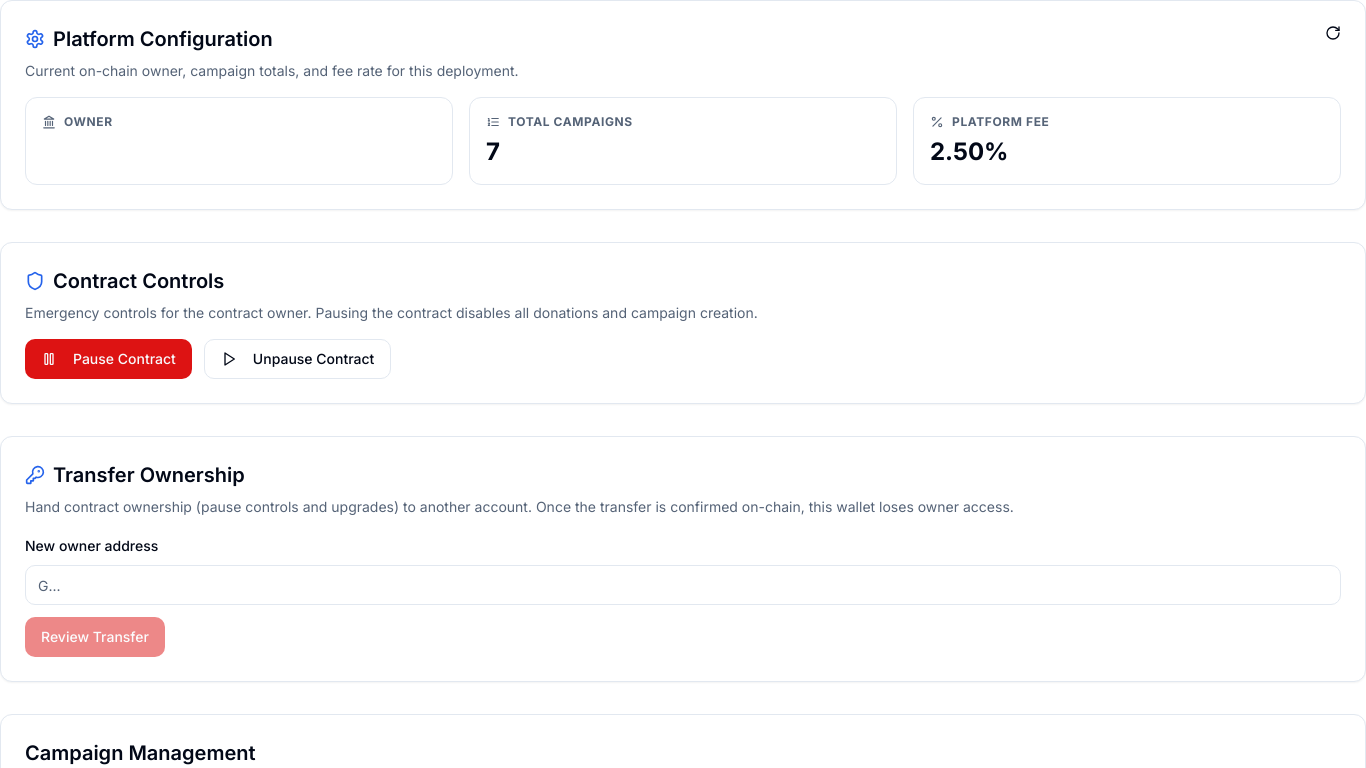
Scenario: AdminPanel – pause › keeps the confirm button disabled until PAUSE is typed
Click the button "Pause Contract" at point(108, 359), box x1=25 y1=339 x2=192 y2=379
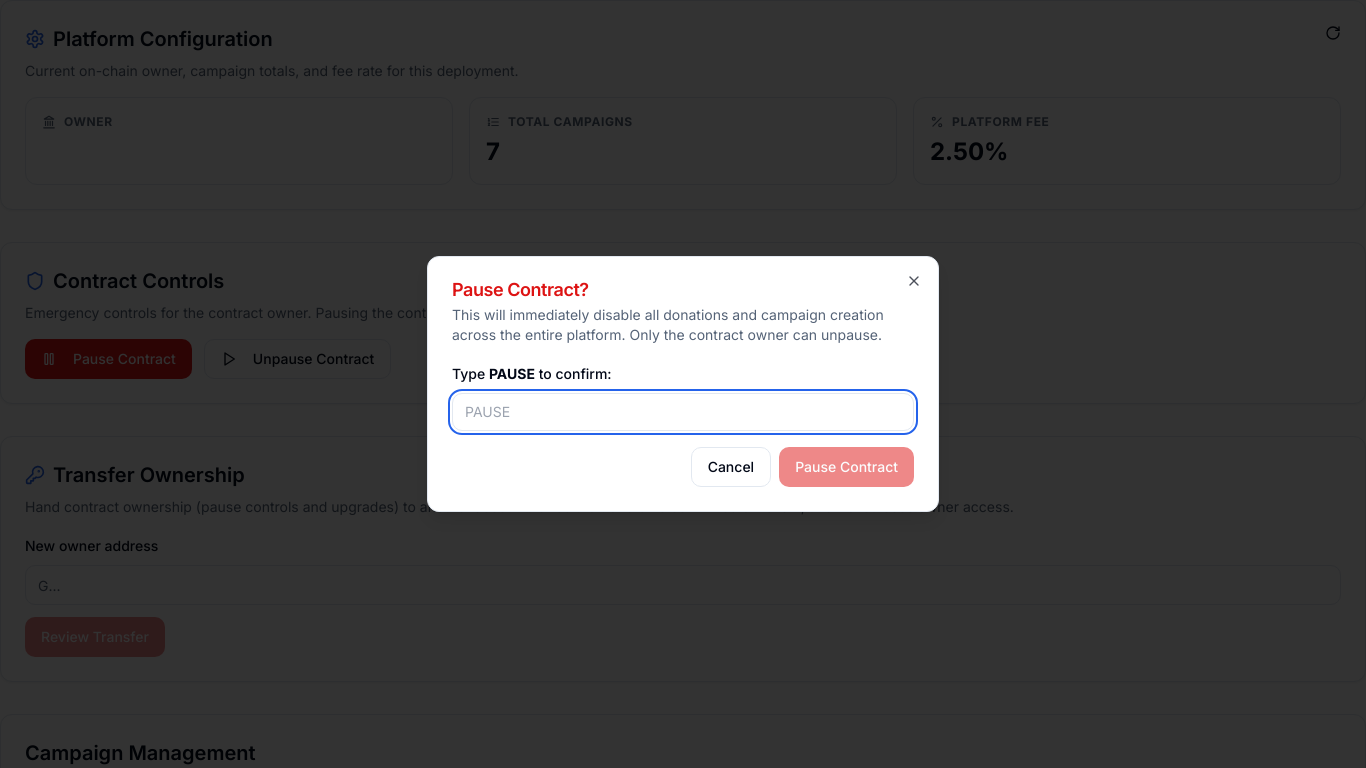
Expected: the button "Pause Contract" is disabled, x1=779 y1=447 x2=914 y2=487
Type "pause" into the field with placeholder "PAUSE" at point(683, 412), box x1=452 y1=393 x2=914 y2=431
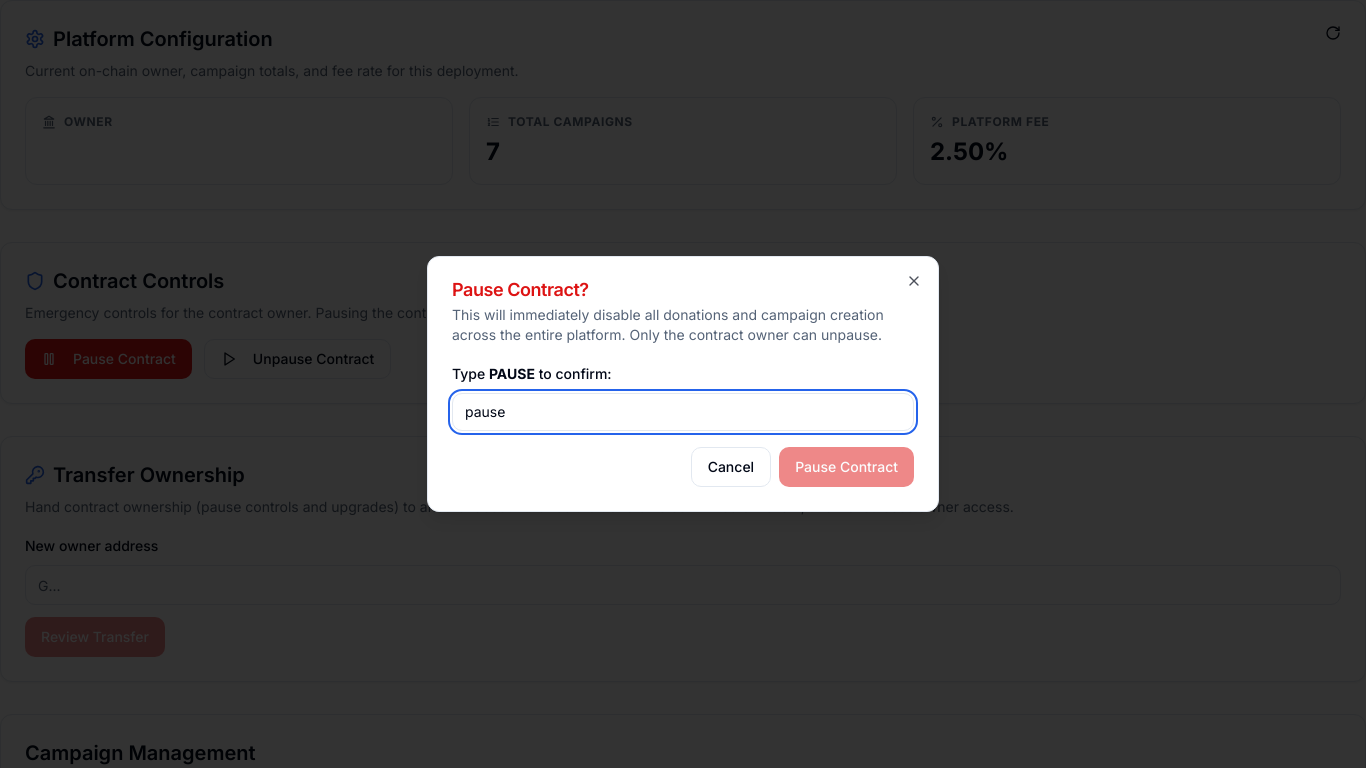
Expected: the button "Pause Contract" is disabled, x1=779 y1=447 x2=914 y2=487
Replace the text in the field with placeholder "PAUSE" with "PAUSE" at point(683, 412), box x1=452 y1=393 x2=914 y2=431
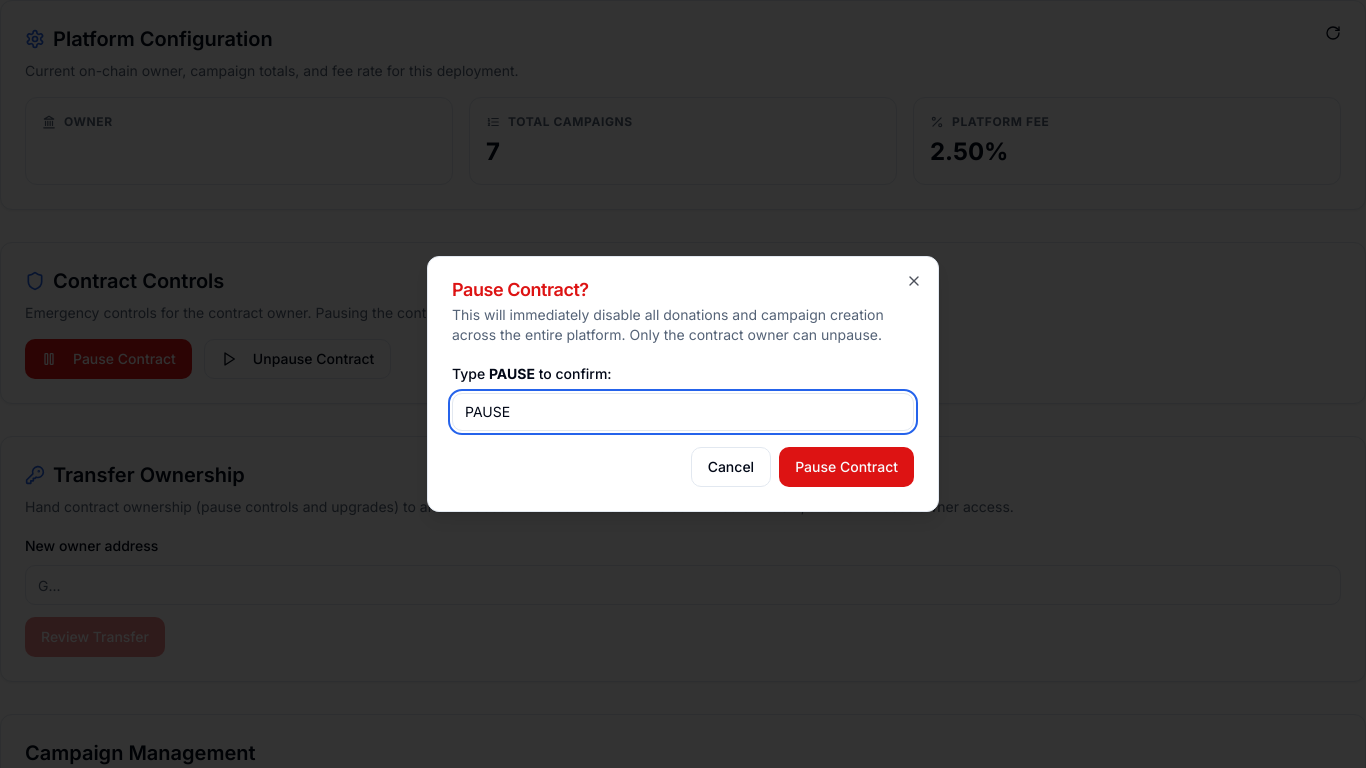
Expected: the button "Pause Contract" is enabled, x1=779 y1=447 x2=914 y2=487
